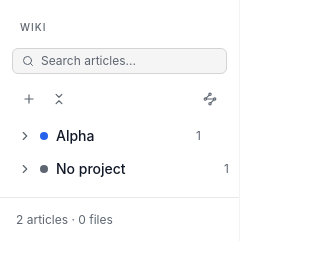
Test: explorer › says so when the search matches nothing
Type "zzz" into the field with placeholder "Search articles..." at coordinates (120, 61), box [12,48,227,74]
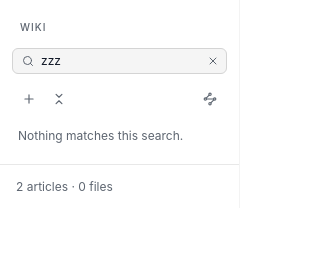
Expected: the text "Nothing matches this search." is shown, [18,128,183,143]
